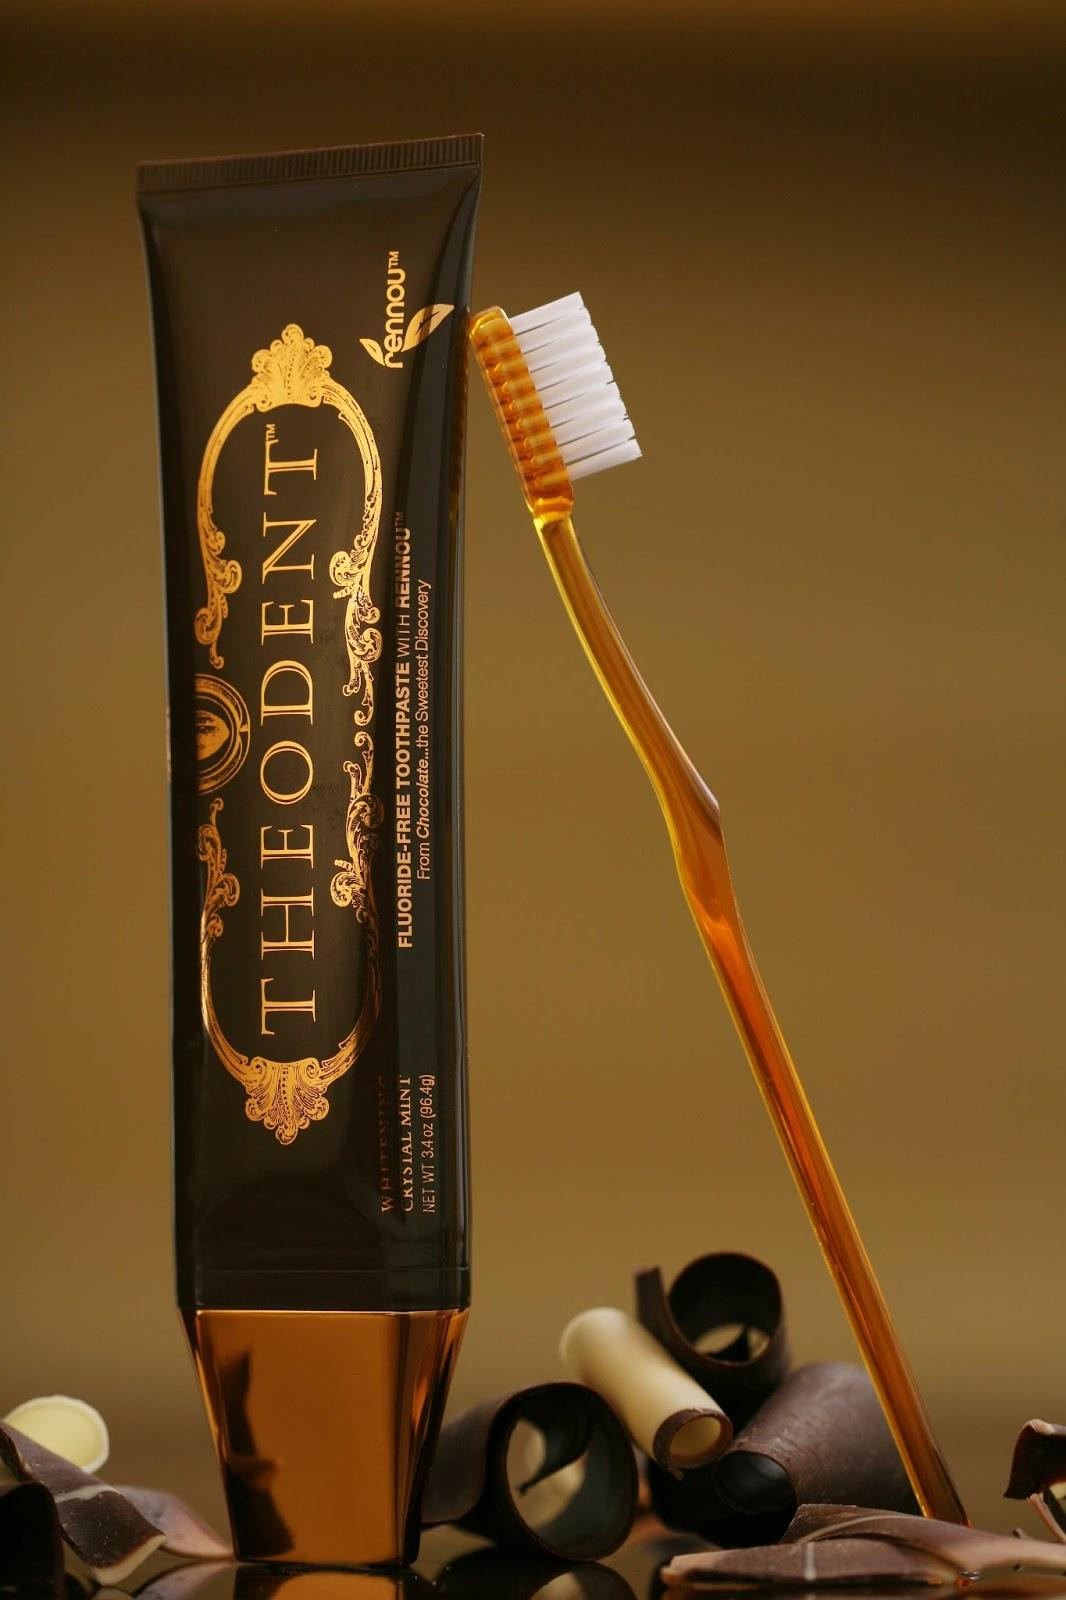toothpaste: (113, 118, 507, 1574)
